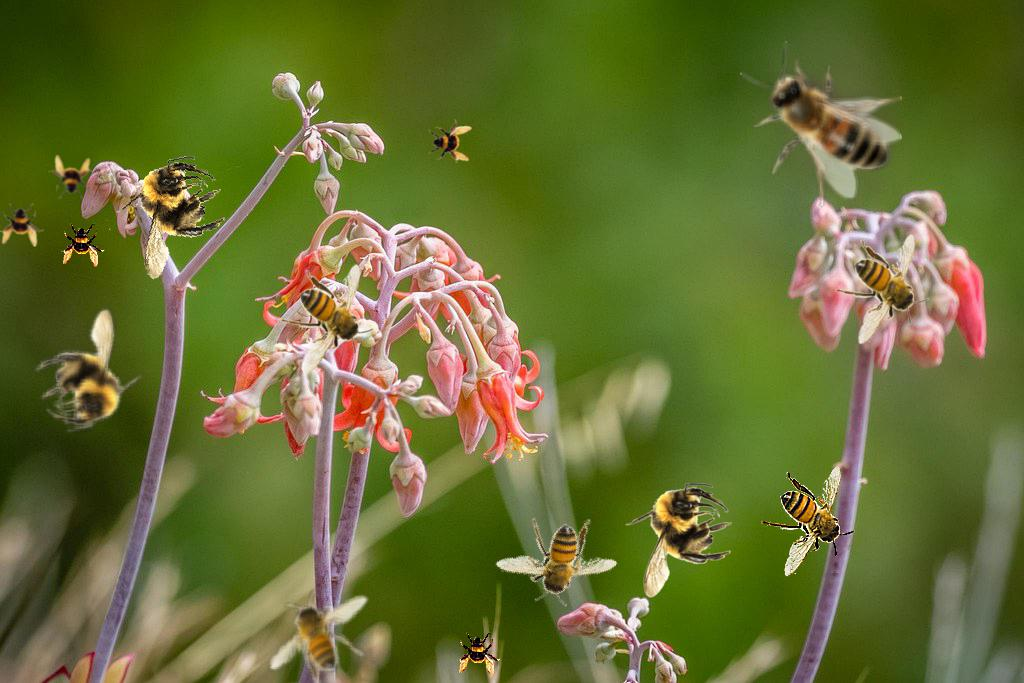Bee: (740, 41, 902, 208), (484, 493, 625, 627), (24, 303, 153, 438), (108, 150, 235, 285), (254, 563, 391, 683), (625, 483, 732, 598), (835, 234, 929, 345), (280, 264, 374, 375), (761, 466, 855, 577), (428, 119, 472, 163), (457, 632, 501, 676), (48, 155, 92, 199), (61, 223, 105, 267), (0, 203, 44, 247)
